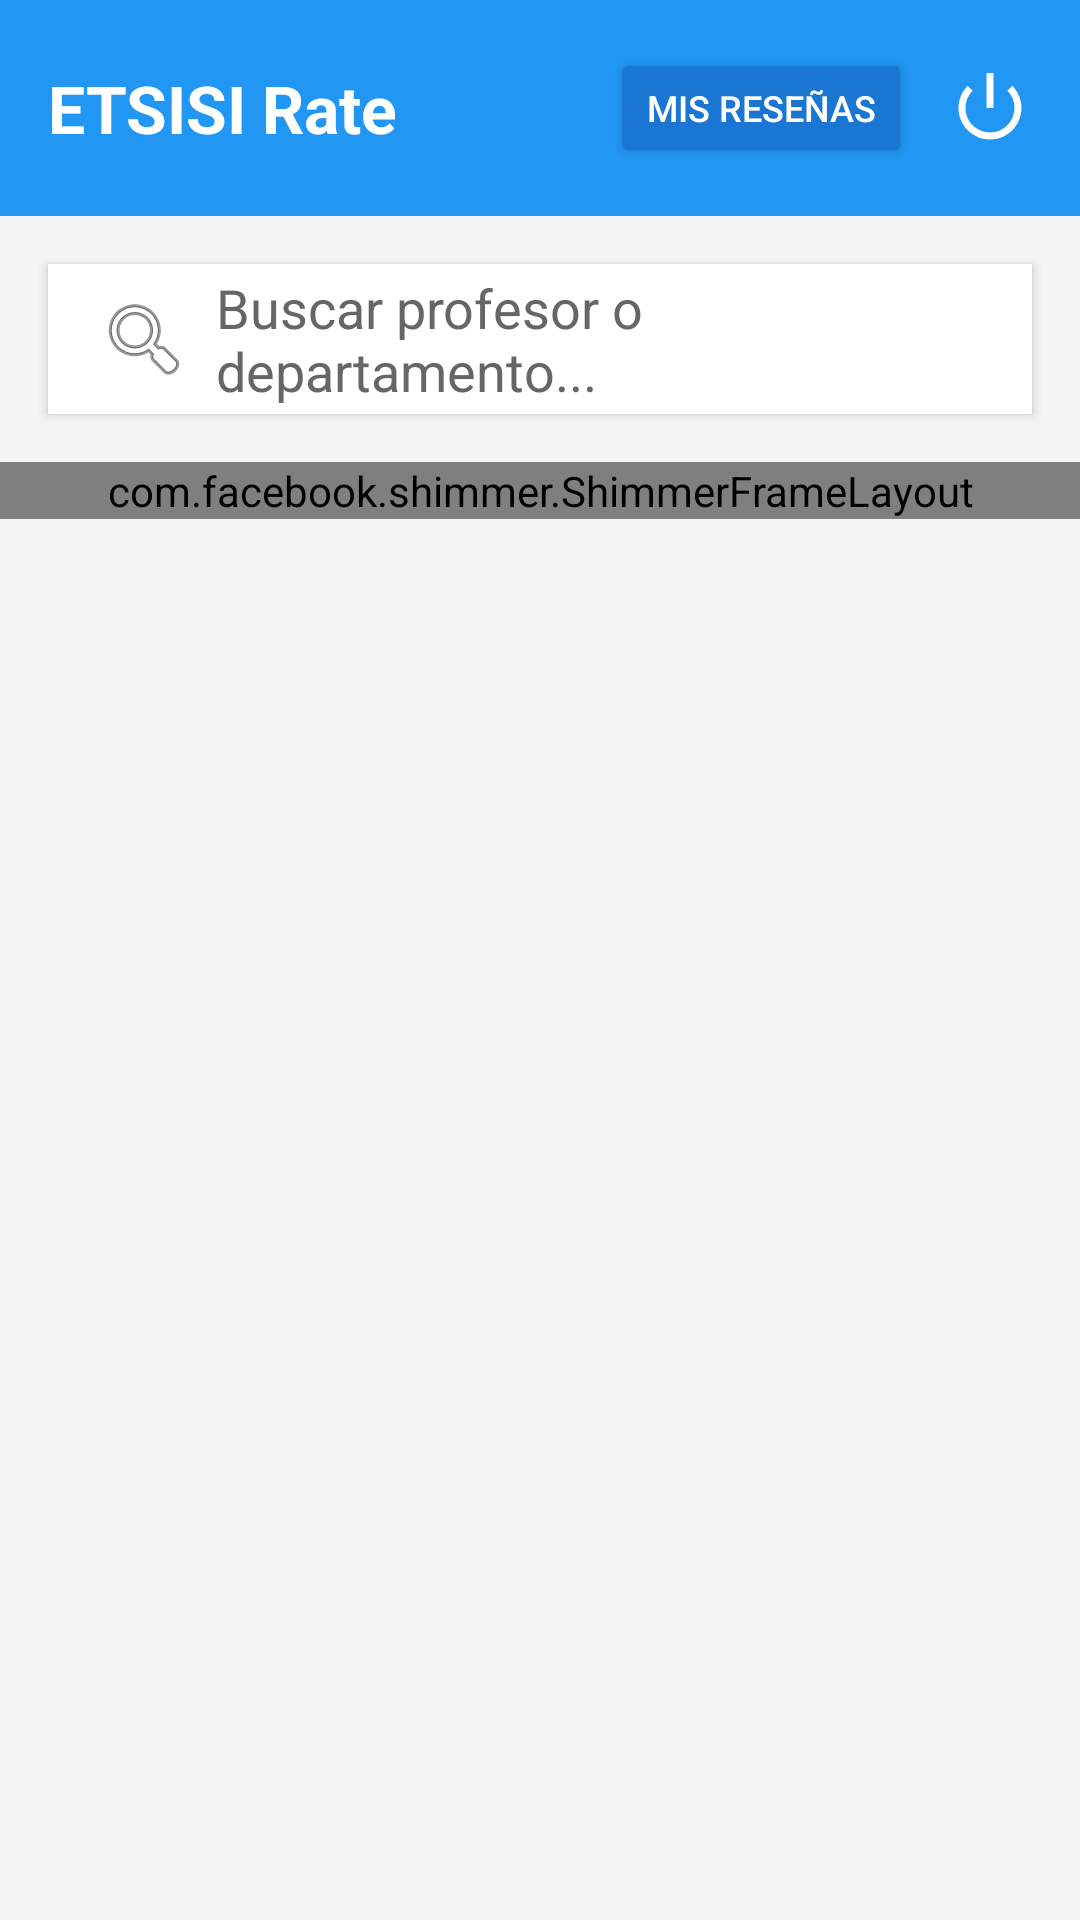

Named icons in this screenshot (1080px×1920px) and their centers, point (x, y):
Cerrar sesión: point (990, 106)
